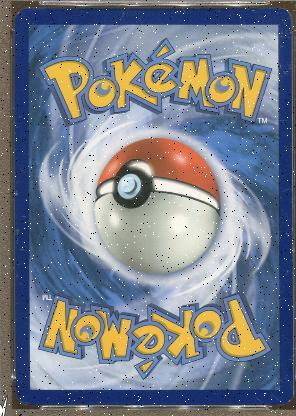Card: (10, 5, 294, 407)
Corner Wear: (17, 396, 32, 406)
Scratch: (277, 18, 289, 40), (15, 229, 26, 251), (277, 63, 290, 78), (250, 10, 265, 22), (18, 164, 29, 174), (14, 274, 23, 286), (268, 393, 281, 401), (274, 116, 286, 124), (251, 396, 262, 404), (40, 120, 47, 132), (281, 268, 291, 276), (260, 298, 269, 306), (281, 186, 290, 194), (212, 8, 219, 18), (118, 9, 124, 20), (93, 396, 101, 404), (57, 27, 65, 35), (280, 143, 286, 153), (288, 352, 293, 362), (15, 184, 19, 196), (180, 7, 185, 14), (22, 214, 26, 220), (278, 194, 281, 200)
